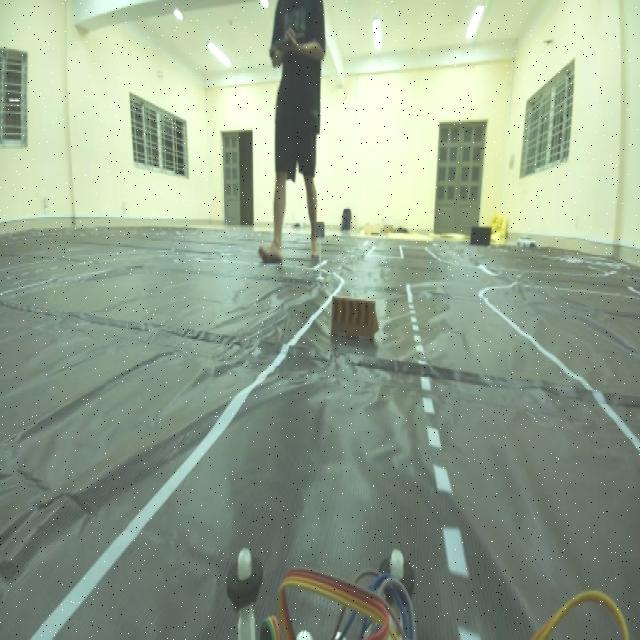roadblock: (323, 284, 384, 360)
